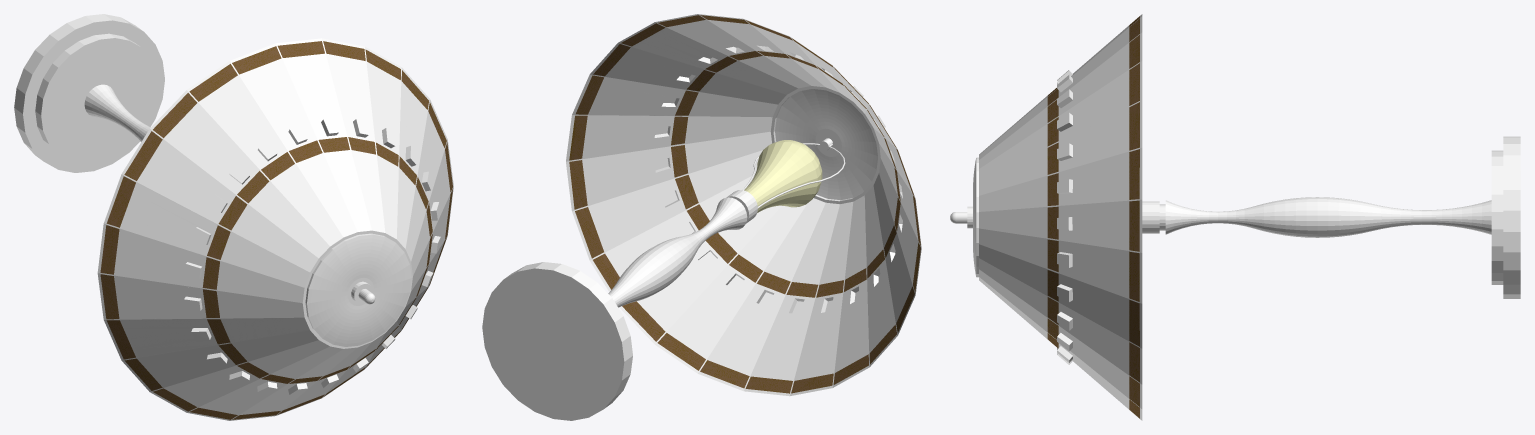
3 views of the same model, side by side, from view 1: azimuth 30°, elevation 25°; view 2: azimuth 150°, elevation 25°; view 3: azimuth 270°, elevation 25° (orthographic).
Parts seen in each view (by area): view 1: tiffany style lamp; view 2: tiffany style lamp; view 3: tiffany style lamp.
Part boxes in pixels (bbox=[...]): tiffany style lamp: bbox=[14, 14, 453, 420]; tiffany style lamp: bbox=[482, 14, 921, 420]; tiffany style lamp: bbox=[950, 14, 1520, 420].
Size of the model in its own units: 17.54 by 17.54 by 24.49.
